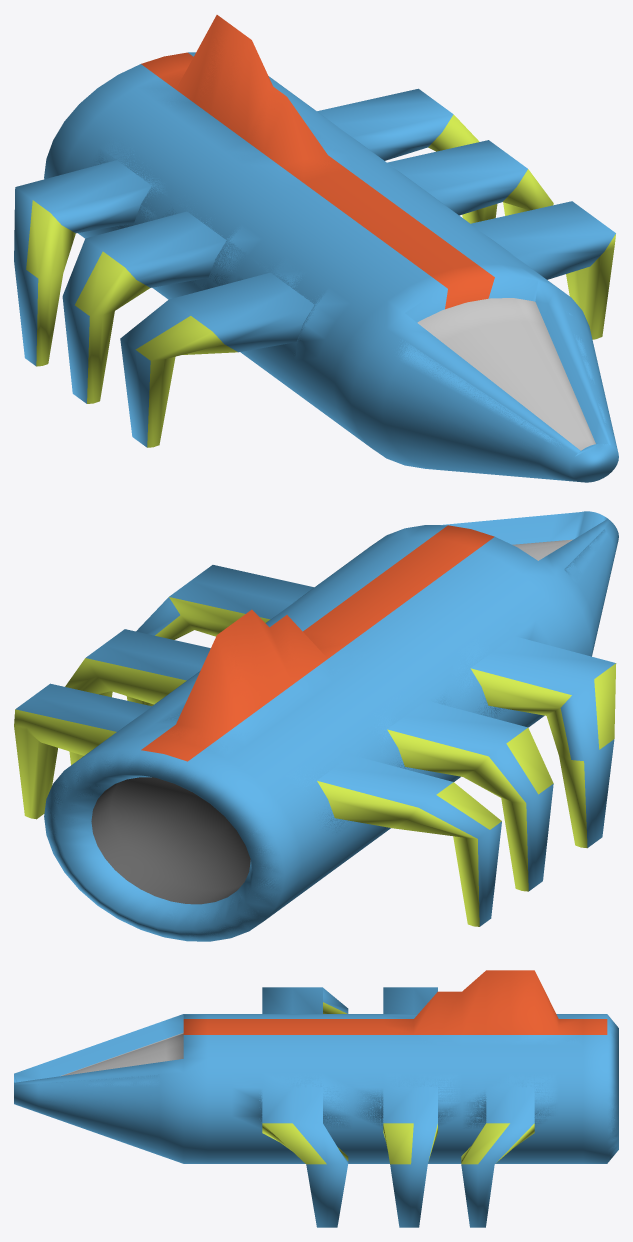
File: nave.fbx
3 views of the same model, one above another, from view 1: azimuth 30°, elevation 25°; view 2: azimuth 150°, elevation 25°; view 3: azimuth 270°, elevation 25° (orthographic). The views are drawn at different scales.
Parts seen in each view (by area): view 1: Cylinder; view 2: Cylinder; view 3: Cylinder.
Part boxes in pixels (<box>): Cylinder: <box>14,15,618,482</box>; Cylinder: <box>14,511,618,941</box>; Cylinder: <box>14,970,618,1227</box>.
Bounding box in the file's own units: 530 × 288 × 868.
